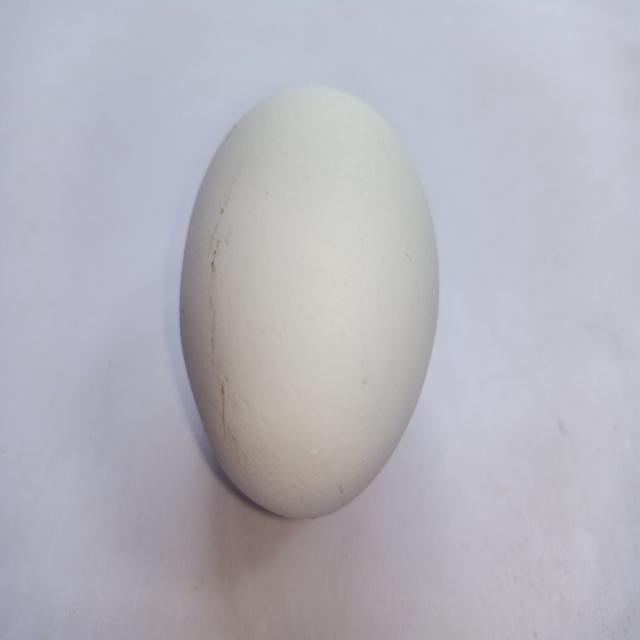Egg: (173, 60, 450, 548)
